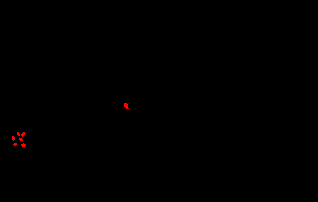Target: (124, 103, 129, 109), (21, 132, 25, 137), (21, 143, 26, 147), (12, 136, 15, 141), (17, 132, 20, 136), (19, 138, 23, 141), (13, 143, 17, 146)
